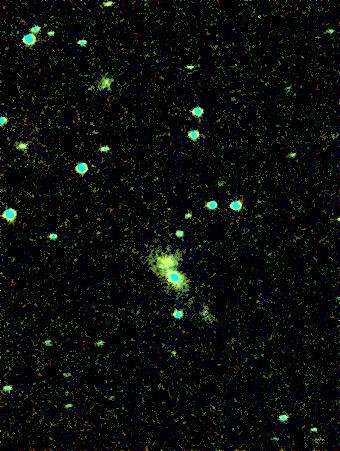star: (321, 204, 340, 234)
